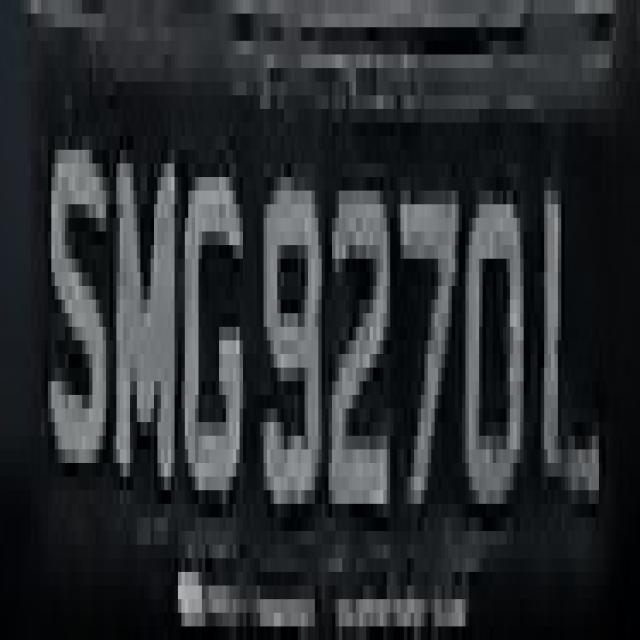0: (462, 164, 527, 586)
2: (322, 136, 394, 531)
7: (394, 163, 462, 545)
9: (253, 177, 329, 572)
G: (174, 109, 247, 531)
L: (530, 136, 606, 545)
M: (109, 109, 178, 517)
S: (41, 109, 113, 504)
